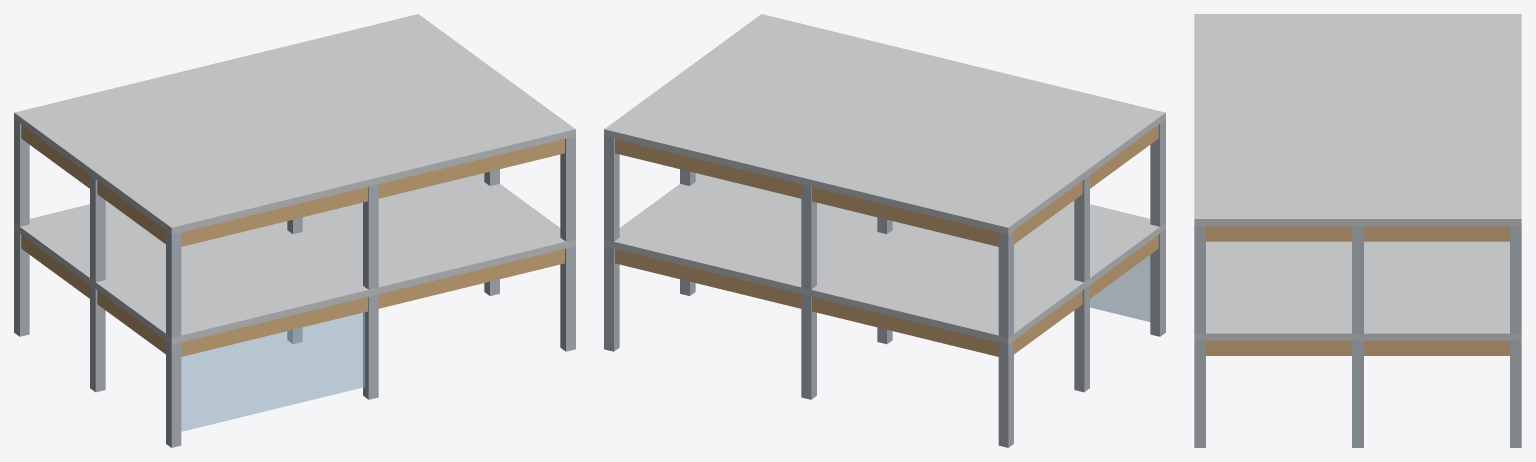
Rendered from Vergola_mau.glb.
3 renders of one model, left to right at view 1: azimuth 30°, elevation 25°; view 2: azimuth 150°, elevation 25°; view 3: azimuth 270°, elevation 25°, orthographic. The views are drawn at different scales.
Visible parts, largest first — view 1: Slab 200 [310044], Slab 200 [310022], Glazing 6mm [310045], UB305x165x40 [310014], UB305x165x40 [310036], UB305x165x40 [310015], UB305x165x40 [310037], UC203x203x46 [310025], UC203x203x46 [310003], UC203x203x46 [310006], UC203x203x46 [310028], UC203x203x46 [310009] (+9 smaller); view 2: Slab 200 [310044], Slab 200 [310022], UB305x165x40 [310010], UB305x165x40 [310032], UB305x165x40 [310011], UB305x165x40 [310033], Glazing 6mm [310045], UC203x203x46 [310023], UC203x203x46 [310001], UC203x203x46 [310004], UC203x203x46 [310026], UC203x203x46 [310007] (+9 smaller); view 3: Slab 200 [310044], Slab 200 [310022], UB254x146x31 [310020], UB254x146x31 [310021], UB254x146x31 [310042], UB254x146x31 [310043], UC203x203x46 [310007], UC203x203x46 [310008], UC203x203x46 [310009], UC203x203x46 [310029], UC203x203x46 [310030], UC203x203x46 [310031].
Part boxes in pixels (left/top/right/bottom): Slab 200 [310044]: left=14, top=14, right=575, bottom=234; Slab 200 [310022]: left=14, top=173, right=575, bottom=344; Glazing 6mm [310045]: left=181, top=312, right=364, bottom=431; UB305x165x40 [310014]: left=181, top=297, right=367, bottom=356; UB305x165x40 [310036]: left=181, top=187, right=367, bottom=246; UB305x165x40 [310015]: left=378, top=249, right=564, bottom=308; UB305x165x40 [310037]: left=378, top=139, right=564, bottom=198; UC203x203x46 [310025]: left=166, top=231, right=181, bottom=337; UC203x203x46 [310003]: left=166, top=341, right=181, bottom=447; UC203x203x46 [310006]: left=363, top=294, right=378, bottom=399; UC203x203x46 [310028]: left=363, top=184, right=378, bottom=289; UC203x203x46 [310009]: left=560, top=246, right=575, bottom=351; Slab 200 [310044]: left=604, top=14, right=1165, bottom=234; Slab 200 [310022]: left=604, top=173, right=1165, bottom=344; UB305x165x40 [310010]: left=812, top=297, right=998, bottom=356; UB305x165x40 [310032]: left=812, top=187, right=998, bottom=246; UB305x165x40 [310011]: left=615, top=249, right=801, bottom=308; UB305x165x40 [310033]: left=615, top=139, right=801, bottom=198; Glazing 6mm [310045]: left=1090, top=255, right=1150, bottom=321; UC203x203x46 [310023]: left=998, top=231, right=1013, bottom=337; UC203x203x46 [310001]: left=998, top=341, right=1013, bottom=447; UC203x203x46 [310004]: left=801, top=294, right=816, bottom=399; UC203x203x46 [310026]: left=801, top=184, right=816, bottom=289; UC203x203x46 [310007]: left=604, top=246, right=619, bottom=351; Slab 200 [310044]: left=1194, top=14, right=1521, bottom=226; Slab 200 [310022]: left=1194, top=241, right=1521, bottom=340; UB254x146x31 [310020]: left=1364, top=340, right=1509, bottom=355; UB254x146x31 [310021]: left=1206, top=340, right=1351, bottom=355; UB254x146x31 [310042]: left=1364, top=226, right=1509, bottom=241; UB254x146x31 [310043]: left=1206, top=226, right=1351, bottom=241; UC203x203x46 [310007]: left=1510, top=340, right=1521, bottom=447; UC203x203x46 [310008]: left=1352, top=340, right=1363, bottom=447; UC203x203x46 [310009]: left=1194, top=340, right=1205, bottom=447; UC203x203x46 [310029]: left=1510, top=226, right=1521, bottom=333; UC203x203x46 [310030]: left=1352, top=226, right=1363, bottom=333; UC203x203x46 [310031]: left=1194, top=226, right=1205, bottom=333.
Bounding box in the file's own units: 12.3 × 6.4 × 8.3.
